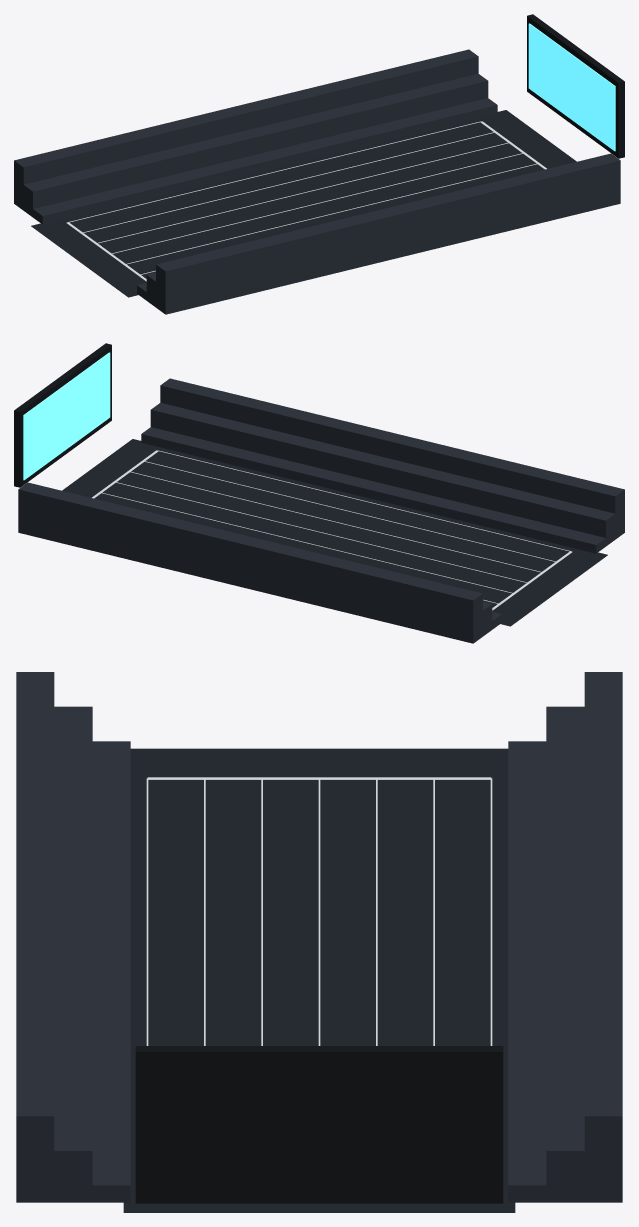
File: arene.glb
3 renders of one model, top to bottom at view 1: azimuth 30°, elevation 25°; view 2: azimuth 150°, elevation 25°; view 3: azimuth 270°, elevation 25°, orthographic. The views are drawn at different scales.
Parts seen in each view (by area): view 1: arene; view 2: arene; view 3: arene.
Part boxes in pixels (x1,y1,x2,y2): arene: (14,14,624,314); arene: (14,343,624,643); arene: (16,672,622,1212).
Bounding box in the file's own units: 48.3 × 8.5 × 25.4.
